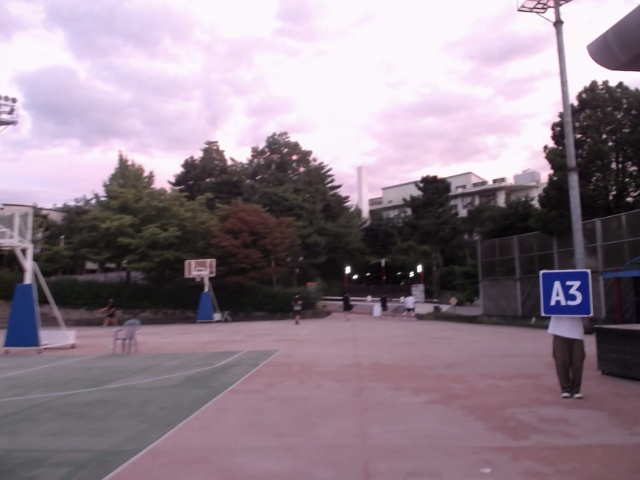delivery_a3: (539, 270, 592, 317)
